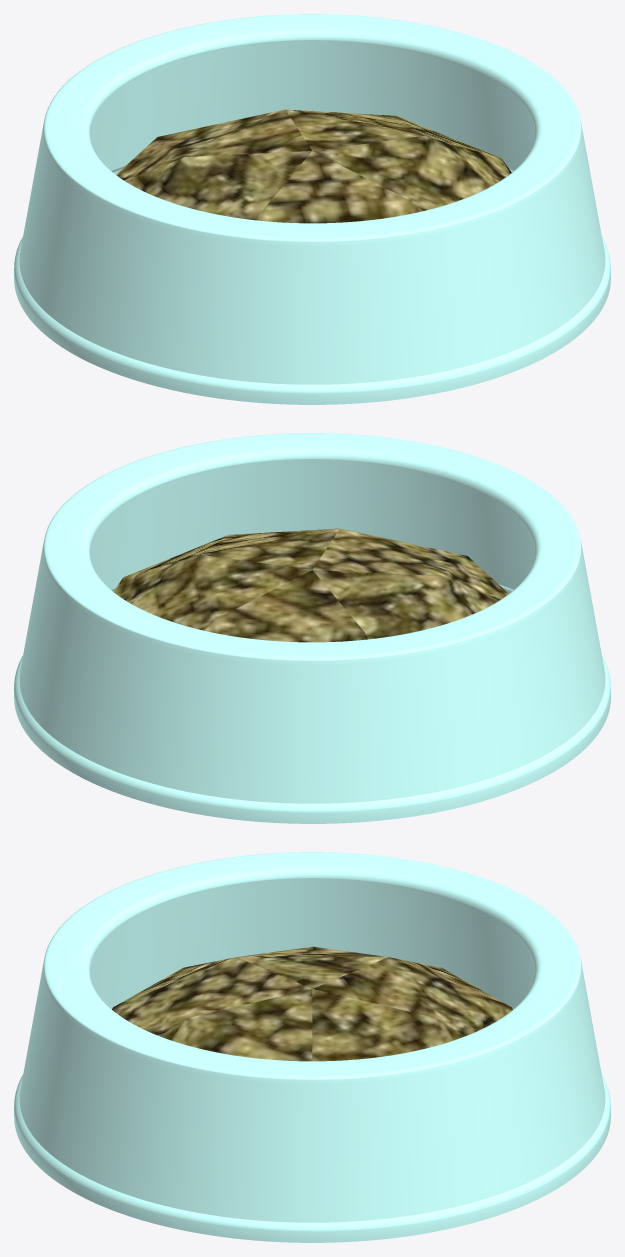
Rendered from bowl_half_full.gltf.
The picture shows the model from 3 angles, top to bottom: view 1: azimuth 30°, elevation 25°; view 2: azimuth 150°, elevation 25°; view 3: azimuth 270°, elevation 25°; orthographic projection.
Visible parts, largest first — view 1: bowl, Icosphere; view 2: bowl, Icosphere; view 3: bowl, Icosphere.
Boxes of the visible parts, bbox=[...] form: bowl: bbox=[14, 14, 610, 404]; Icosphere: bbox=[116, 109, 511, 223]; bowl: bbox=[14, 433, 610, 823]; Icosphere: bbox=[113, 528, 508, 642]; bowl: bbox=[14, 852, 610, 1242]; Icosphere: bbox=[112, 946, 512, 1061].
Size of the model in its own units: 4.1 by 1.16 by 4.1.
Materials: 2 (1 with a texture image).
